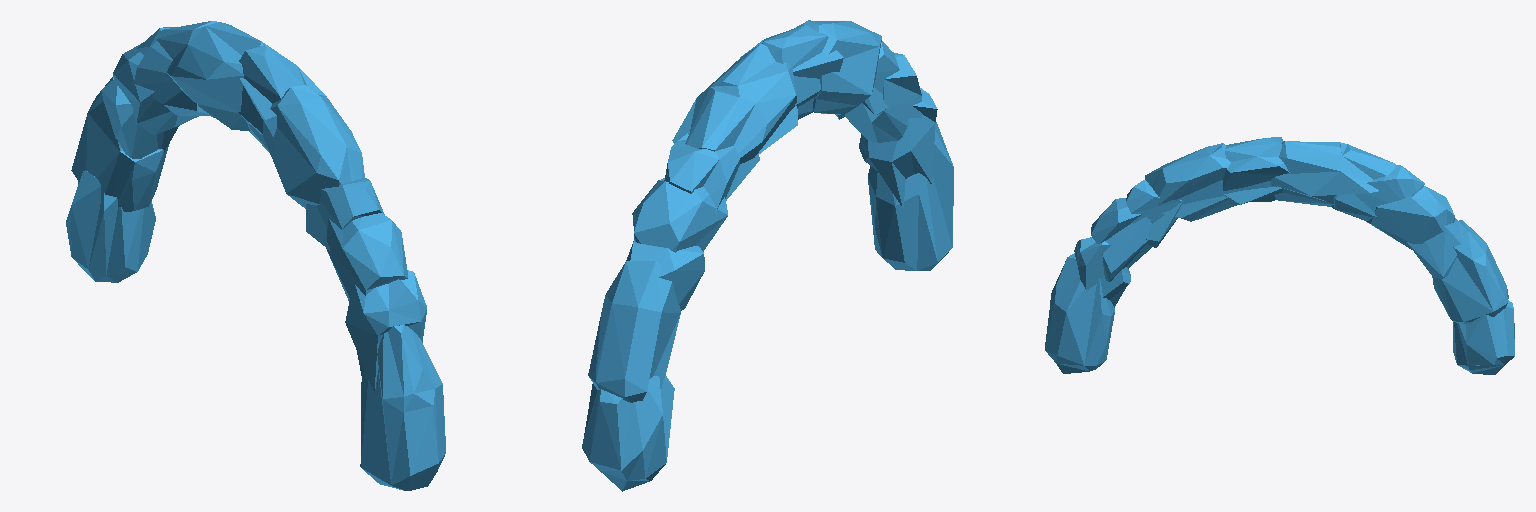
URDF robot description (partnet_75612c0c1d5730eaf93a86670701266):
<?xml version="1.0" ?><robot name="partnet_75612c0c1d5730eaf93a86670701266">
	<link name="base"/>
	<link name="link_0">
		<visual>
			<origin xyz="0 -0.4392541506564456 0.0025613898411393724"/>
			<geometry>
				<mesh filename="new_objs/100454_link_0_8.obj"/>
			</geometry>
		</visual>
	<visual>
			<origin xyz="0 -0.4392541506564456 0.0025613898411393724"/>
			<geometry>
				<mesh filename="new_objs/100454_link_0_11.obj"/>
			</geometry>
		</visual>
	<visual>
			<origin xyz="0 -0.4392541506564456 0.0025613898411393724"/>
			<geometry>
				<mesh filename="new_objs/100454_link_0_2.obj"/>
			</geometry>
		</visual>
	<visual>
			<origin xyz="0 -0.4392541506564456 0.0025613898411393724"/>
			<geometry>
				<mesh filename="new_objs/100454_link_0_5.obj"/>
			</geometry>
		</visual>
	<visual>
			<origin xyz="0 -0.4392541506564456 0.0025613898411393724"/>
			<geometry>
				<mesh filename="new_objs/100454_link_0_0.obj"/>
			</geometry>
		</visual>
	<visual>
			<origin xyz="0 -0.4392541506564456 0.0025613898411393724"/>
			<geometry>
				<mesh filename="new_objs/100454_link_0_10.obj"/>
			</geometry>
		</visual>
	<visual>
			<origin xyz="0 -0.4392541506564456 0.0025613898411393724"/>
			<geometry>
				<mesh filename="new_objs/100454_link_0_6.obj"/>
			</geometry>
		</visual>
	<visual>
			<origin xyz="0 -0.4392541506564456 0.0025613898411393724"/>
			<geometry>
				<mesh filename="new_objs/100454_link_0_1.obj"/>
			</geometry>
		</visual>
	<visual>
			<origin xyz="0 -0.4392541506564456 0.0025613898411393724"/>
			<geometry>
				<mesh filename="new_objs/100454_link_0_7.obj"/>
			</geometry>
		</visual>
	<visual>
			<origin xyz="0 -0.4392541506564456 0.0025613898411393724"/>
			<geometry>
				<mesh filename="new_objs/100454_link_0_3.obj"/>
			</geometry>
		</visual>
	<visual>
			<origin xyz="0 -0.4392541506564456 0.0025613898411393724"/>
			<geometry>
				<mesh filename="new_objs/100454_link_0_9.obj"/>
			</geometry>
		</visual>
	<visual>
			<origin xyz="0 -0.4392541506564456 0.0025613898411393724"/>
			<geometry>
				<mesh filename="new_objs/100454_link_0_4.obj"/>
			</geometry>
		</visual>
	
		<collision>
			<origin xyz="0 -0.4392541506564456 0.0025613898411393724"/>
			<geometry>
				<mesh filename="new_objs/100454_link_0_8.obj"/>
			</geometry>
		</collision><collision>
			<origin xyz="0 -0.4392541506564456 0.0025613898411393724"/>
			<geometry>
				<mesh filename="new_objs/100454_link_0_11.obj"/>
			</geometry>
		</collision><collision>
			<origin xyz="0 -0.4392541506564456 0.0025613898411393724"/>
			<geometry>
				<mesh filename="new_objs/100454_link_0_2.obj"/>
			</geometry>
		</collision><collision>
			<origin xyz="0 -0.4392541506564456 0.0025613898411393724"/>
			<geometry>
				<mesh filename="new_objs/100454_link_0_5.obj"/>
			</geometry>
		</collision><collision>
			<origin xyz="0 -0.4392541506564456 0.0025613898411393724"/>
			<geometry>
				<mesh filename="new_objs/100454_link_0_0.obj"/>
			</geometry>
		</collision><collision>
			<origin xyz="0 -0.4392541506564456 0.0025613898411393724"/>
			<geometry>
				<mesh filename="new_objs/100454_link_0_10.obj"/>
			</geometry>
		</collision><collision>
			<origin xyz="0 -0.4392541506564456 0.0025613898411393724"/>
			<geometry>
				<mesh filename="new_objs/100454_link_0_6.obj"/>
			</geometry>
		</collision><collision>
			<origin xyz="0 -0.4392541506564456 0.0025613898411393724"/>
			<geometry>
				<mesh filename="new_objs/100454_link_0_1.obj"/>
			</geometry>
		</collision><collision>
			<origin xyz="0 -0.4392541506564456 0.0025613898411393724"/>
			<geometry>
				<mesh filename="new_objs/100454_link_0_7.obj"/>
			</geometry>
		</collision><collision>
			<origin xyz="0 -0.4392541506564456 0.0025613898411393724"/>
			<geometry>
				<mesh filename="new_objs/100454_link_0_3.obj"/>
			</geometry>
		</collision><collision>
			<origin xyz="0 -0.4392541506564456 0.0025613898411393724"/>
			<geometry>
				<mesh filename="new_objs/100454_link_0_9.obj"/>
			</geometry>
		</collision><collision>
			<origin xyz="0 -0.4392541506564456 0.0025613898411393724"/>
			<geometry>
				<mesh filename="new_objs/100454_link_0_4.obj"/>
			</geometry>
		</collision></link>
	<joint name="joint_0" type="revolute">
		<origin xyz="0 0.4392541506564456 -0.0025613898411393724"/>
		<axis xyz="-1 0 0"/>
		<child link="link_0"/>
		<parent link="link_1"/>
		<limit lower="-1.5707963267948966" upper="1.5707963267948966"/>
	</joint>
	<link name="link_1">
		<collision>
			<origin xyz="0 0 0"/>
			<geometry>
				<mesh filename="new_objs/100454_link_1_19.obj"/>
			</geometry>
		</collision>
	<collision>
			<origin xyz="0 0 0"/>
			<geometry>
				<mesh filename="new_objs/100454_link_1_11.obj"/>
			</geometry>
		</collision>
	<collision>
			<origin xyz="0 0 0"/>
			<geometry>
				<mesh filename="new_objs/100454_link_1_16.obj"/>
			</geometry>
		</collision>
	<collision>
			<origin xyz="0 0 0"/>
			<geometry>
				<mesh filename="new_objs/100454_link_1_4.obj"/>
			</geometry>
		</collision>
	<collision>
			<origin xyz="0 0 0"/>
			<geometry>
				<mesh filename="new_objs/100454_link_1_9.obj"/>
			</geometry>
		</collision>
	<collision>
			<origin xyz="0 0 0"/>
			<geometry>
				<mesh filename="new_objs/100454_link_1_3.obj"/>
			</geometry>
		</collision>
	<collision>
			<origin xyz="0 0 0"/>
			<geometry>
				<mesh filename="new_objs/100454_link_1_15.obj"/>
			</geometry>
		</collision>
	<collision>
			<origin xyz="0 0 0"/>
			<geometry>
				<mesh filename="new_objs/100454_link_1_17.obj"/>
			</geometry>
		</collision>
	<collision>
			<origin xyz="0 0 0"/>
			<geometry>
				<mesh filename="new_objs/100454_link_1_8.obj"/>
			</geometry>
		</collision>
	<collision>
			<origin xyz="0 0 0"/>
			<geometry>
				<mesh filename="new_objs/100454_link_1_13.obj"/>
			</geometry>
		</collision>
	<collision>
			<origin xyz="0 0 0"/>
			<geometry>
				<mesh filename="new_objs/100454_link_1_5.obj"/>
			</geometry>
		</collision>
	<collision>
			<origin xyz="0 0 0"/>
			<geometry>
				<mesh filename="new_objs/100454_link_1_7.obj"/>
			</geometry>
		</collision>
	<collision>
			<origin xyz="0 0 0"/>
			<geometry>
				<mesh filename="new_objs/100454_link_1_2.obj"/>
			</geometry>
		</collision>
	<collision>
			<origin xyz="0 0 0"/>
			<geometry>
				<mesh filename="new_objs/100454_link_1_1.obj"/>
			</geometry>
		</collision>
	<collision>
			<origin xyz="0 0 0"/>
			<geometry>
				<mesh filename="new_objs/100454_link_1_14.obj"/>
			</geometry>
		</collision>
	<collision>
			<origin xyz="0 0 0"/>
			<geometry>
				<mesh filename="new_objs/100454_link_1_6.obj"/>
			</geometry>
		</collision>
	<collision>
			<origin xyz="0 0 0"/>
			<geometry>
				<mesh filename="new_objs/100454_link_1_0.obj"/>
			</geometry>
		</collision>
	<collision>
			<origin xyz="0 0 0"/>
			<geometry>
				<mesh filename="new_objs/100454_link_1_10.obj"/>
			</geometry>
		</collision>
	<collision>
			<origin xyz="0 0 0"/>
			<geometry>
				<mesh filename="new_objs/100454_link_1_18.obj"/>
			</geometry>
		</collision>
	<collision>
			<origin xyz="0 0 0"/>
			<geometry>
				<mesh filename="new_objs/100454_link_1_12.obj"/>
			</geometry>
		</collision>
	<visual name="base_body-part[&quot;id]">
			<origin xyz="0 0 0"/>
			<geometry>
				<mesh filename="textured_objs/original-1.obj"/>
			</geometry>
		</visual>
		</link>
	<joint name="joint_1" type="fixed">
		<origin rpy="1.570796326794897 0 -1.570796326794897" xyz="0 0 0"/>
		<child link="link_1"/>
		<parent link="base"/>
	</joint>
</robot>

--- Render facts (derived) ---
The picture shows the robot from 3 angles, left to right: view 1: azimuth 30°, elevation 25°; view 2: azimuth 150°, elevation 25°; view 3: azimuth 270°, elevation 25°; orthographic projection.
Model partnet_75612c0c1d5730eaf93a86670701266 with 3 links and 2 joints (1 revolute, 1 fixed), rooted at base, posed every joint at zero.
Links seen in each view (by area): view 1: link_0; view 2: link_0; view 3: link_0.
Link boxes in pixels (bbox=[...]): link_0: bbox=[66, 21, 445, 490]; link_0: bbox=[582, 20, 953, 491]; link_0: bbox=[1045, 137, 1514, 374].
Bounding box of the posed robot: 0.1586 × 1.25 × 0.6971 m (x, y, z).
12 mesh visuals loaded from 13 distinct referenced files (12 OBJ); not drawn: 1 (reference not matched to a file when rendering).
